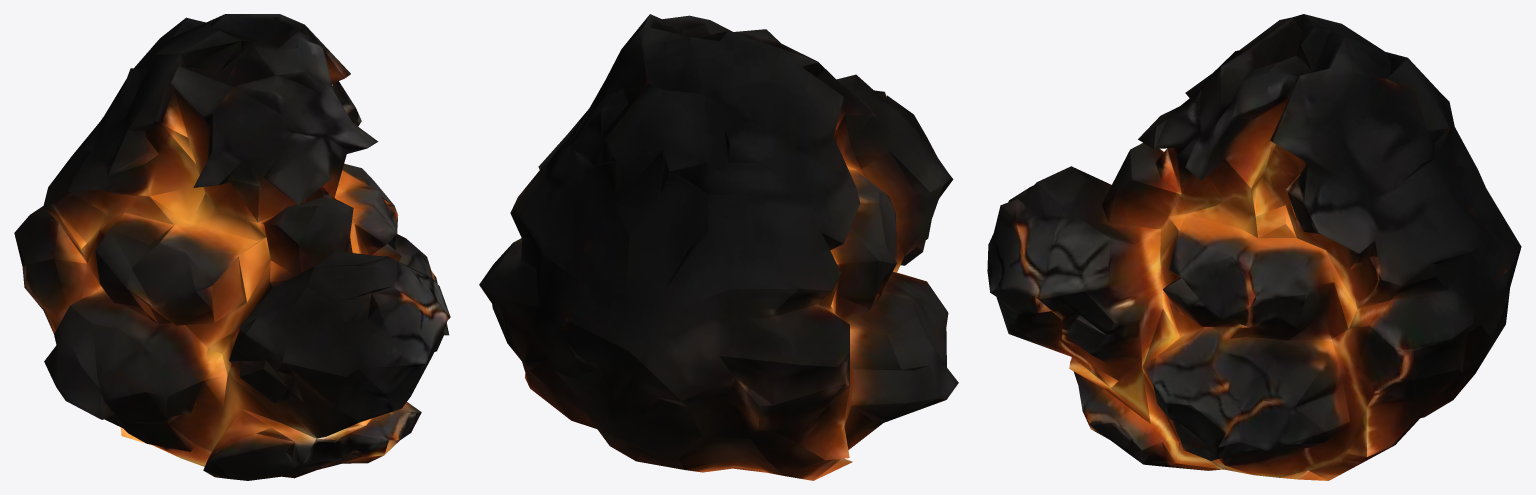
File: m2LavaRock.glb
3 renders of one model, left to right at view 1: azimuth 30°, elevation 25°; view 2: azimuth 150°, elevation 25°; view 3: azimuth 270°, elevation 25°, orthographic. The views are drawn at different scales.
Visible parts, largest first — view 1: model; view 2: model; view 3: model.
Boxes of the visible parts, x1,y1,x2,y2 form: model: (14, 14, 450, 480); model: (479, 14, 958, 480); model: (987, 14, 1521, 480).
Bounding box in the file's own units: 1.62 × 1.63 × 1.9.
1 material, 1 textured.
